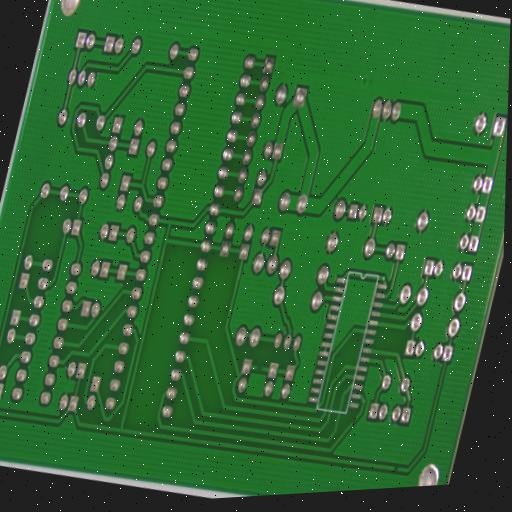open_circuit: (254, 361, 265, 374), (349, 415, 358, 429), (391, 462, 400, 474)
